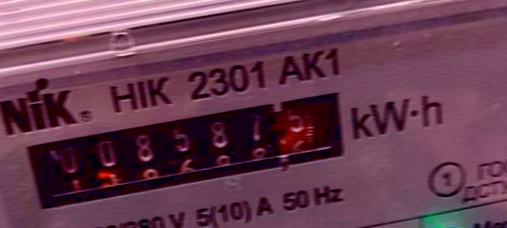0: (94, 136, 121, 170), (56, 144, 83, 176)
5: (171, 124, 194, 155), (285, 103, 307, 135)
6: (290, 138, 308, 156)
7: (246, 112, 268, 146)
8: (208, 118, 231, 152), (134, 133, 158, 165)
screen: (19, 89, 367, 215)
